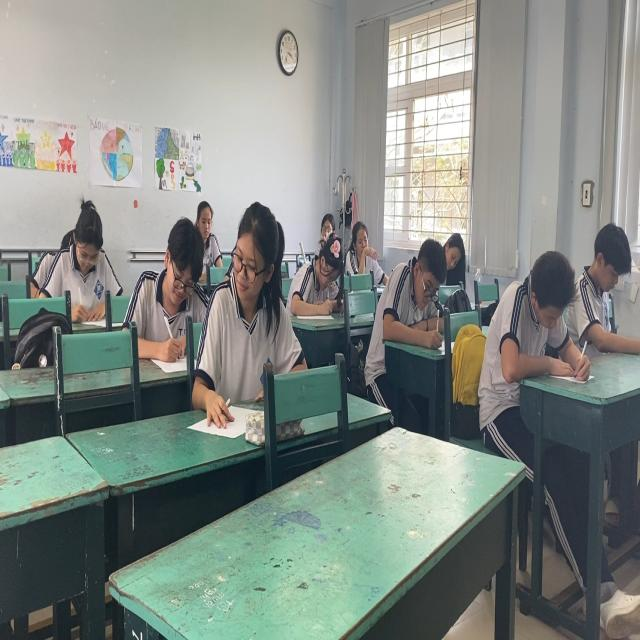cheating: (216, 204, 301, 402)
not_cheating: (135, 219, 214, 350), (501, 250, 573, 363), (381, 233, 445, 354), (577, 215, 632, 354), (48, 198, 124, 298), (297, 232, 347, 322), (190, 188, 227, 274), (349, 222, 386, 281), (439, 225, 470, 285)
